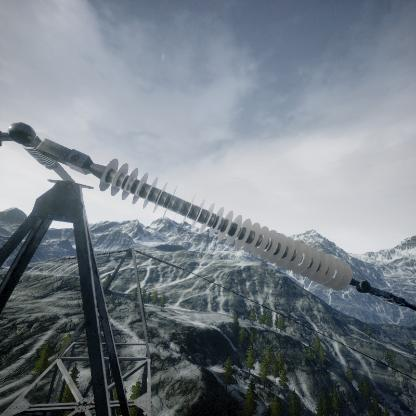insulator: (88, 159, 367, 298)
